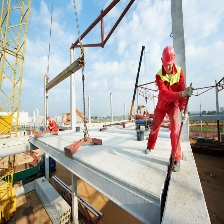helmet: (160, 46, 177, 68)
person: (150, 45, 192, 172)
vest: (155, 69, 188, 117)
